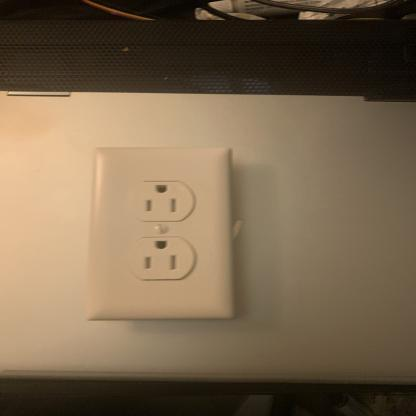OUTLET: (90, 145, 235, 318)
